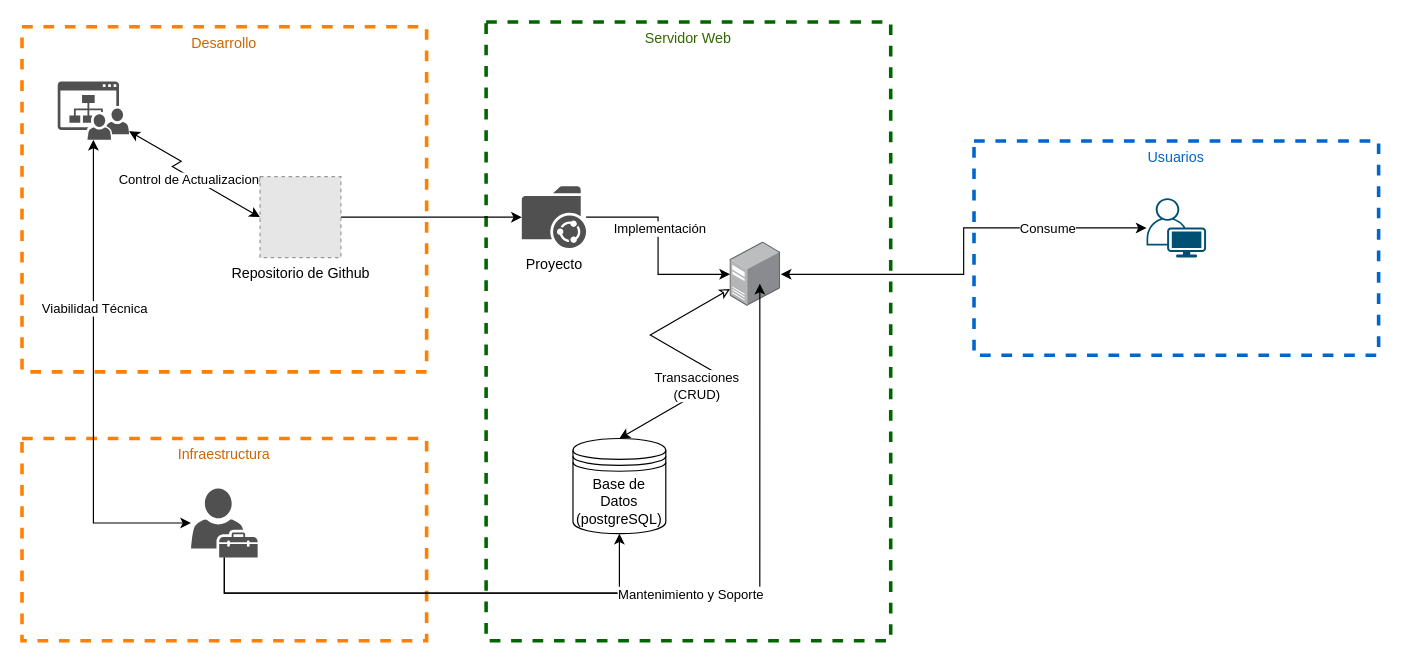
The diagram is 1401 pixels wide and 663 high, and some of its shapes have lost their labels. Grey dashed boxes stand in for pictures. Each missing label, with the centre of its shape:
Aplicación Web (instancia gunicorn): (x=754, y=274)
Cliente (PC / Celular): (x=1175, y=227)
Desarrolladores: (x=93, y=110)
Jefe de infraestructura: (x=223, y=522)
